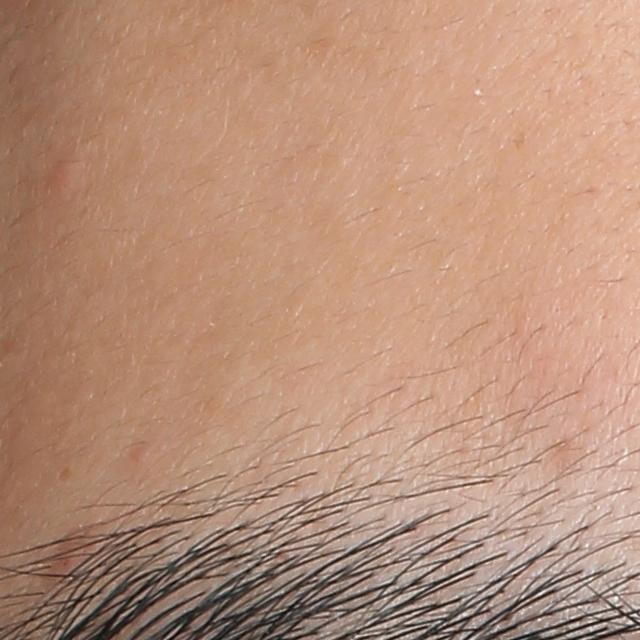papule: (49, 155, 81, 189)
